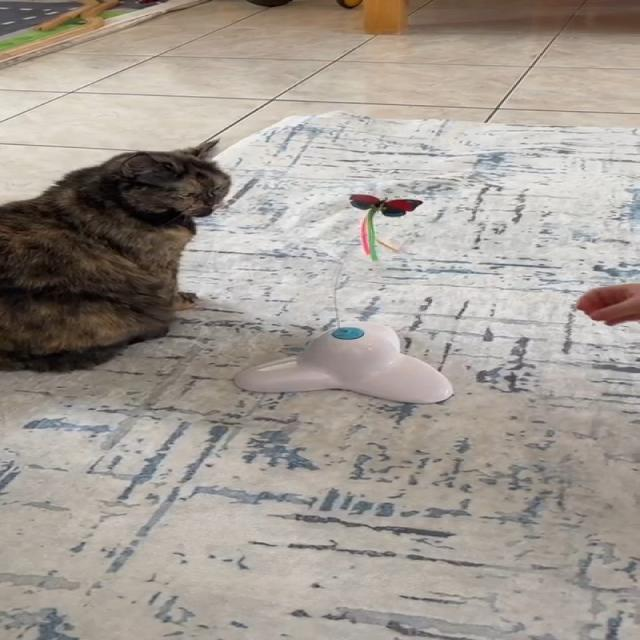authorized: (0, 136, 231, 372)
